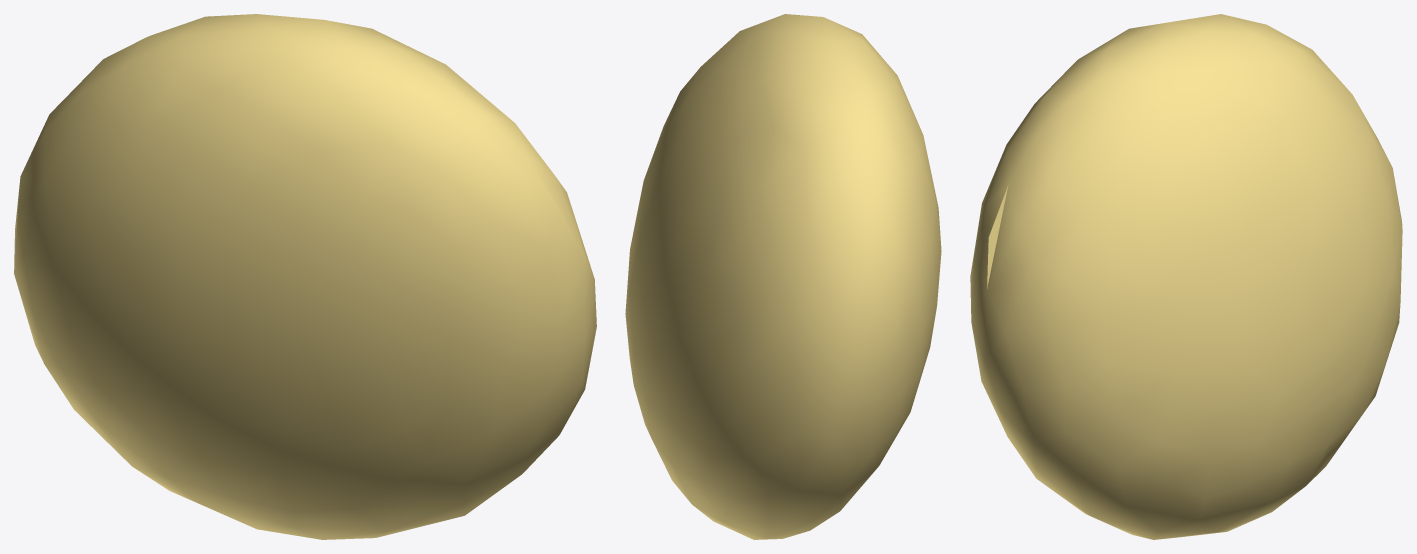
File: fma73509_mm3556m.glb
3 renders of one model, left to right at view 1: azimuth 30°, elevation 25°; view 2: azimuth 150°, elevation 25°; view 3: azimuth 270°, elevation 25°, orthographic. The views are drawn at different scales.
Parts seen in each view (by area): view 1: FMA73509_MM3556M; view 2: FMA73509_MM3556M; view 3: FMA73509_MM3556M.
Part boxes in pixels (x1,y1,x2,y2): FMA73509_MM3556M: (14,14,596,539); FMA73509_MM3556M: (625,14,941,539); FMA73509_MM3556M: (970,14,1402,539).
Bounding box in the file's own units: 0.00192 × 0.00235 × 0.00196.
